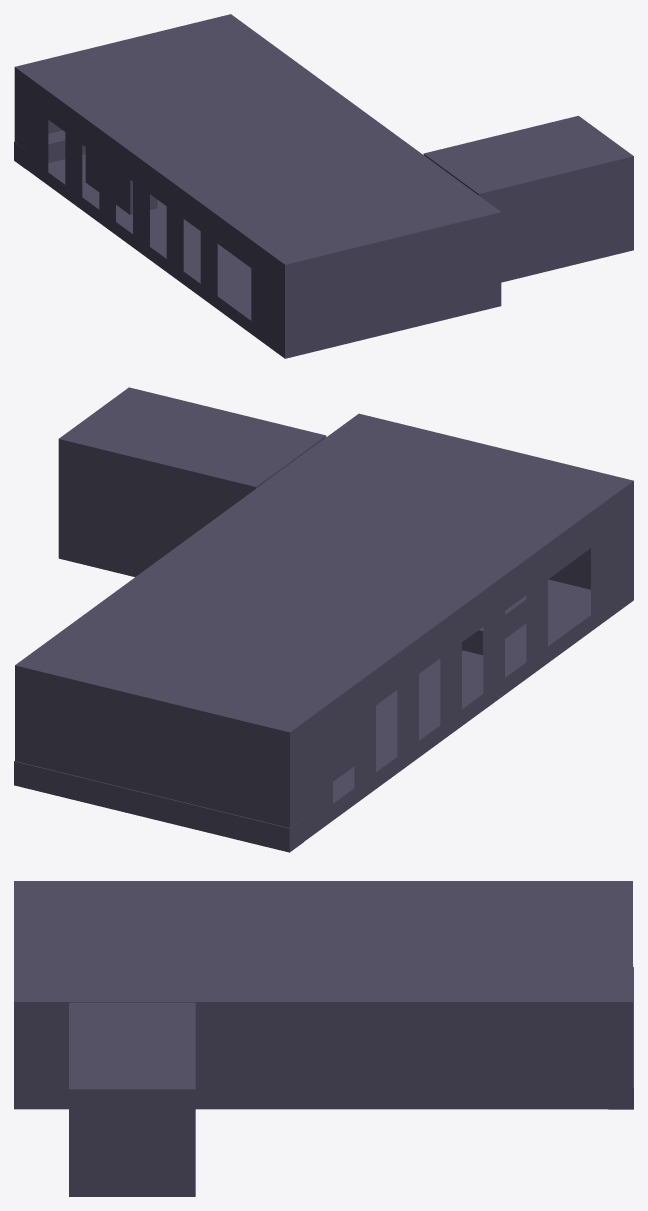
File: room.gltf
The picture shows the model from 3 angles, top to bottom: view 1: azimuth 30°, elevation 25°; view 2: azimuth 150°, elevation 25°; view 3: azimuth 270°, elevation 25°; orthographic projection. The views are drawn at different scales.
Parts seen in each view (by area): view 1: labRoom; view 2: labRoom; view 3: labRoom.
Boxes of the visible parts, bbox=[...] form: labRoom: bbox=[14, 14, 633, 358]; labRoom: bbox=[14, 387, 633, 852]; labRoom: bbox=[14, 881, 633, 1196].
Bounding box in the file's own units: 20.64 × 4.97 × 25.96.
